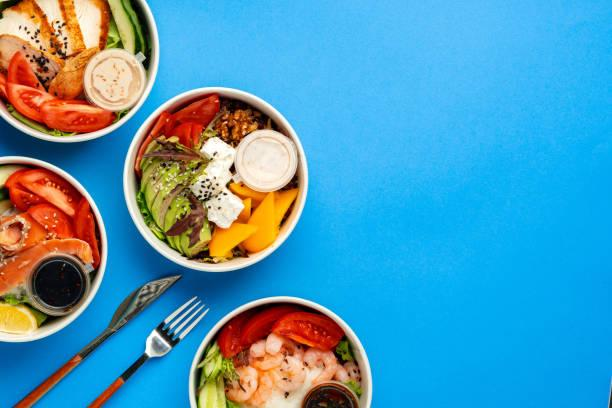Braised Crucian Carp: (122, 87, 306, 273), (0, 0, 159, 146)
